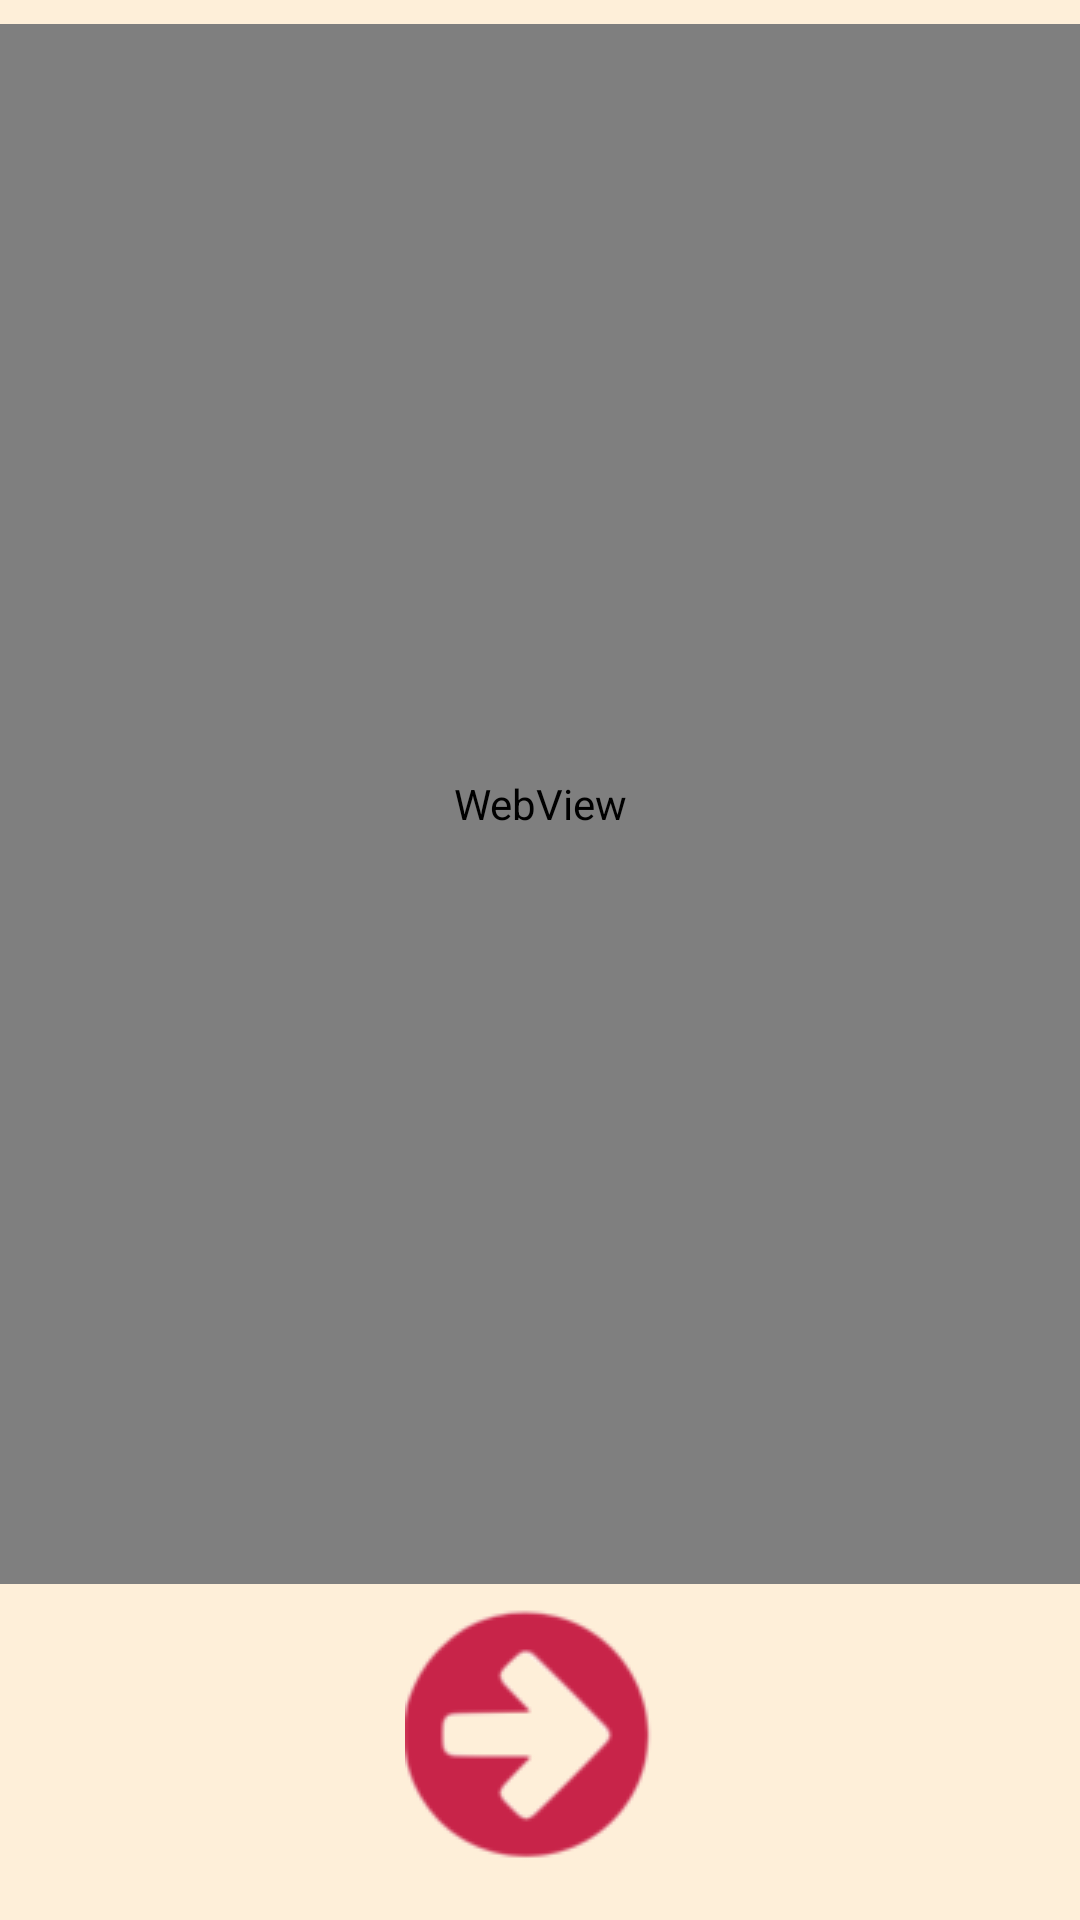

Point at icon controls on the screen. Image size 1080px x 1920px, points as [x,y].
next: [527,1734]
